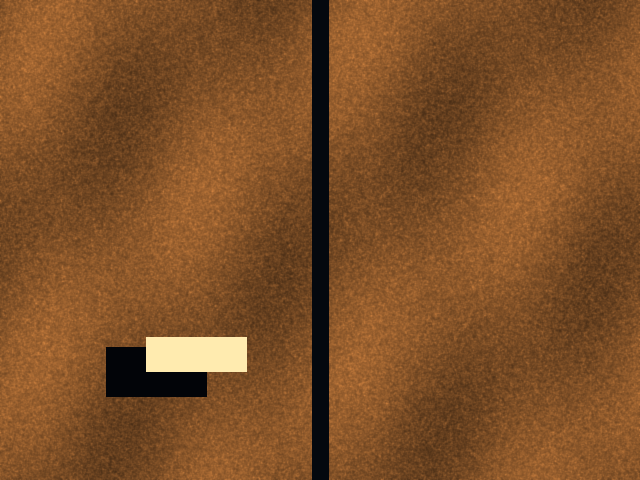Metal Object: (146, 337, 246, 371)
